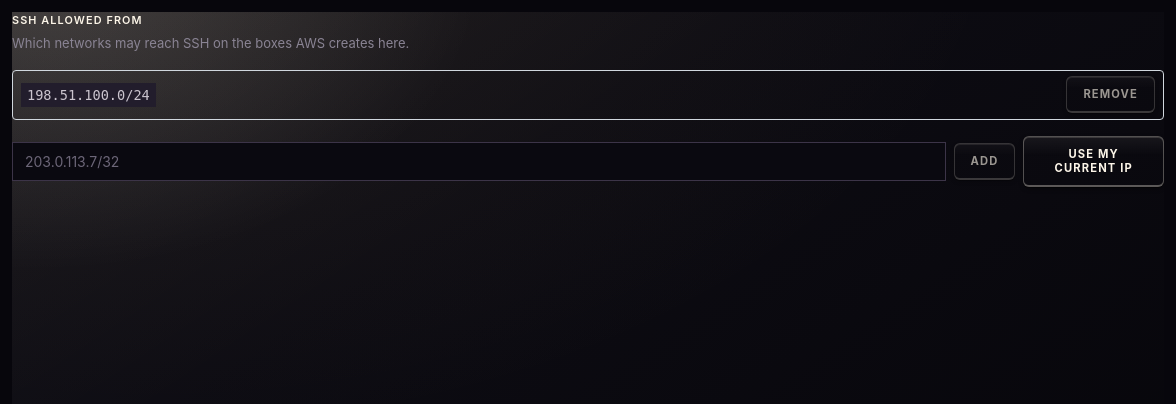
Test case: "Use my current IP" on the SSH allow-list › labels a public-lookup answer as the address of this computer
The image size is (1176, 404).
Click the button with test id "use-my-ip-aws": (1094, 162) [1023,136,1164,187]
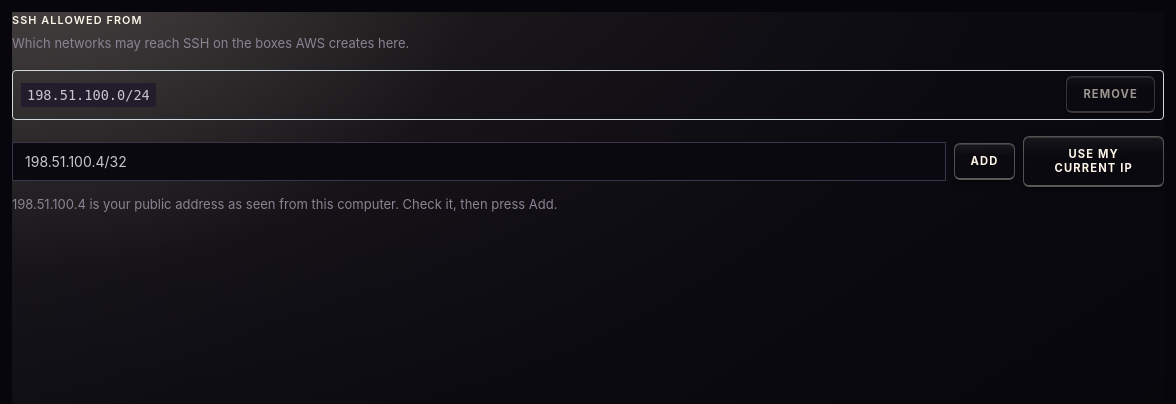
Now the text "198.51.100.4 is your public address as seen from this computer" is shown, box [12,196,558,212]
Now the field named "Add a network for aws" holds "198.51.100.4/32", box [12,142,946,181]
